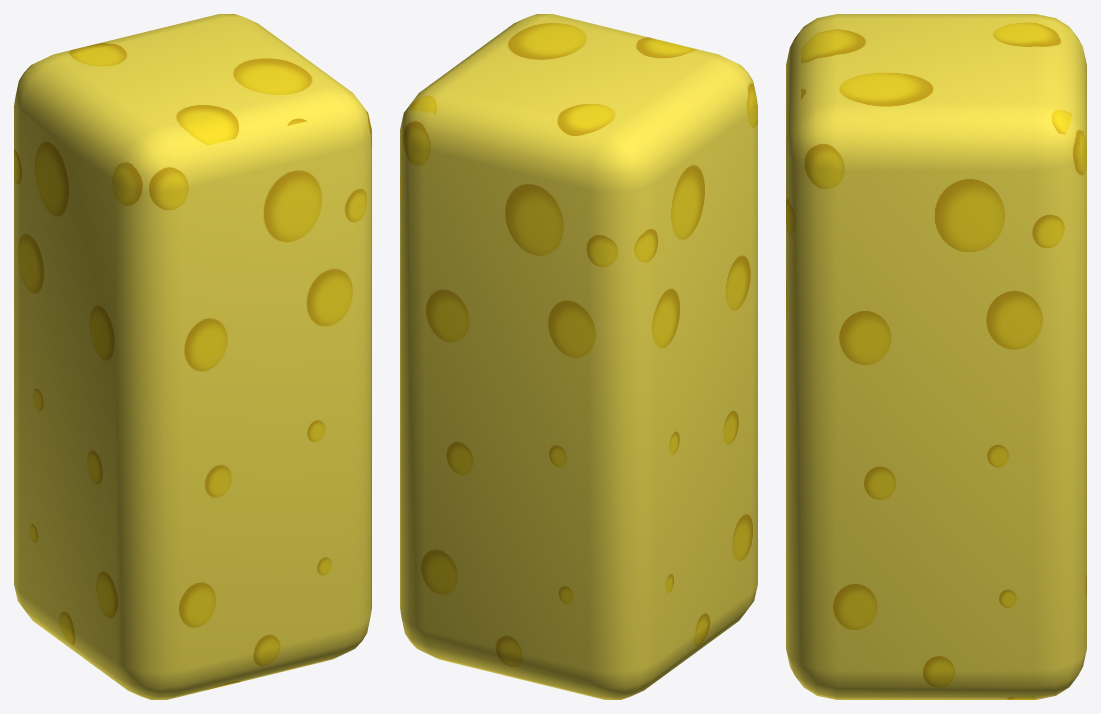
Rendered from GratingCheeseCube_01.fbx.
3 renders of one model, left to right at view 1: azimuth 30°, elevation 25°; view 2: azimuth 150°, elevation 25°; view 3: azimuth 270°, elevation 25°, orthographic. The views are drawn at different scales.
Visible parts, largest first — view 1: Cube; view 2: Cube; view 3: Cube.
Part boxes in pixels (left/top/right/bottom): Cube: left=14, top=14, right=371, bottom=699; Cube: left=400, top=14, right=757, bottom=699; Cube: left=786, top=14, right=1086, bottom=699.
Size of the model in its own units: 107 by 234 by 107.
